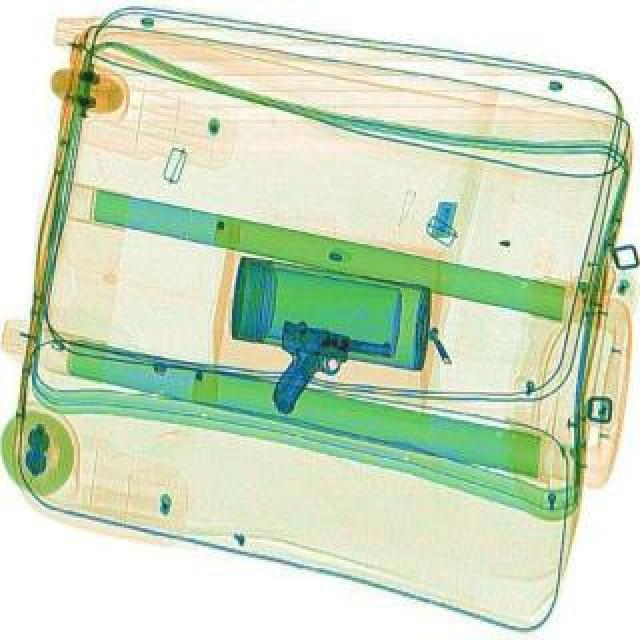gun: (262, 318, 396, 434)
